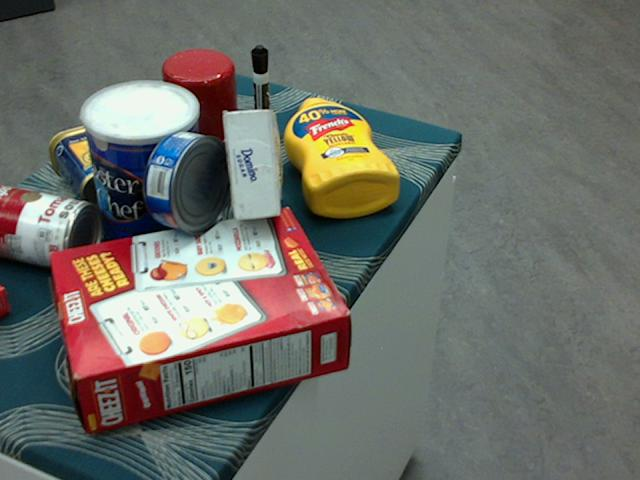cracker_box: (51, 207, 349, 432)
gelatin_box: (0, 283, 12, 317)
large_marker: (251, 44, 270, 149)
master_chef_can: (81, 82, 204, 265)
mug: (160, 50, 242, 148)
mustard_bottle: (283, 96, 399, 217)
potted_meat_can: (48, 115, 172, 212)
sugar_box: (227, 109, 280, 220)
tomato_soup_can: (0, 181, 101, 272)
tuna_fish_can: (142, 130, 233, 232)
